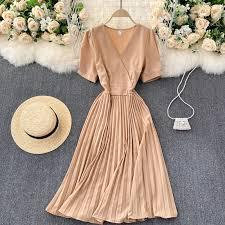dress: (43, 25, 179, 221)
